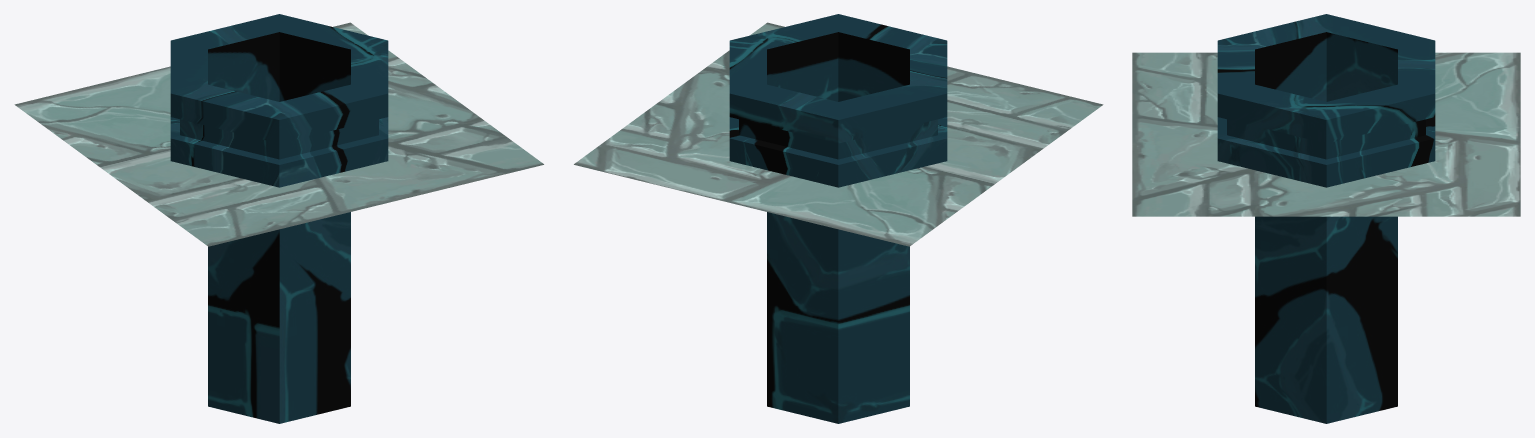
File: wallgrate.fbx
3 renders of one model, left to right at view 1: azimuth 30°, elevation 25°; view 2: azimuth 150°, elevation 25°; view 3: azimuth 270°, elevation 25°, orthographic.
Visible parts, largest first — view 1: polySurface1; view 2: polySurface1; view 3: polySurface1.
Boxes of the visible parts, bbox=[...] form: polySurface1: bbox=[14, 14, 543, 423]; polySurface1: bbox=[574, 14, 1103, 423]; polySurface1: bbox=[1132, 14, 1520, 423].
Bounding box in the file's own units: 2 × 1.83 × 2.
